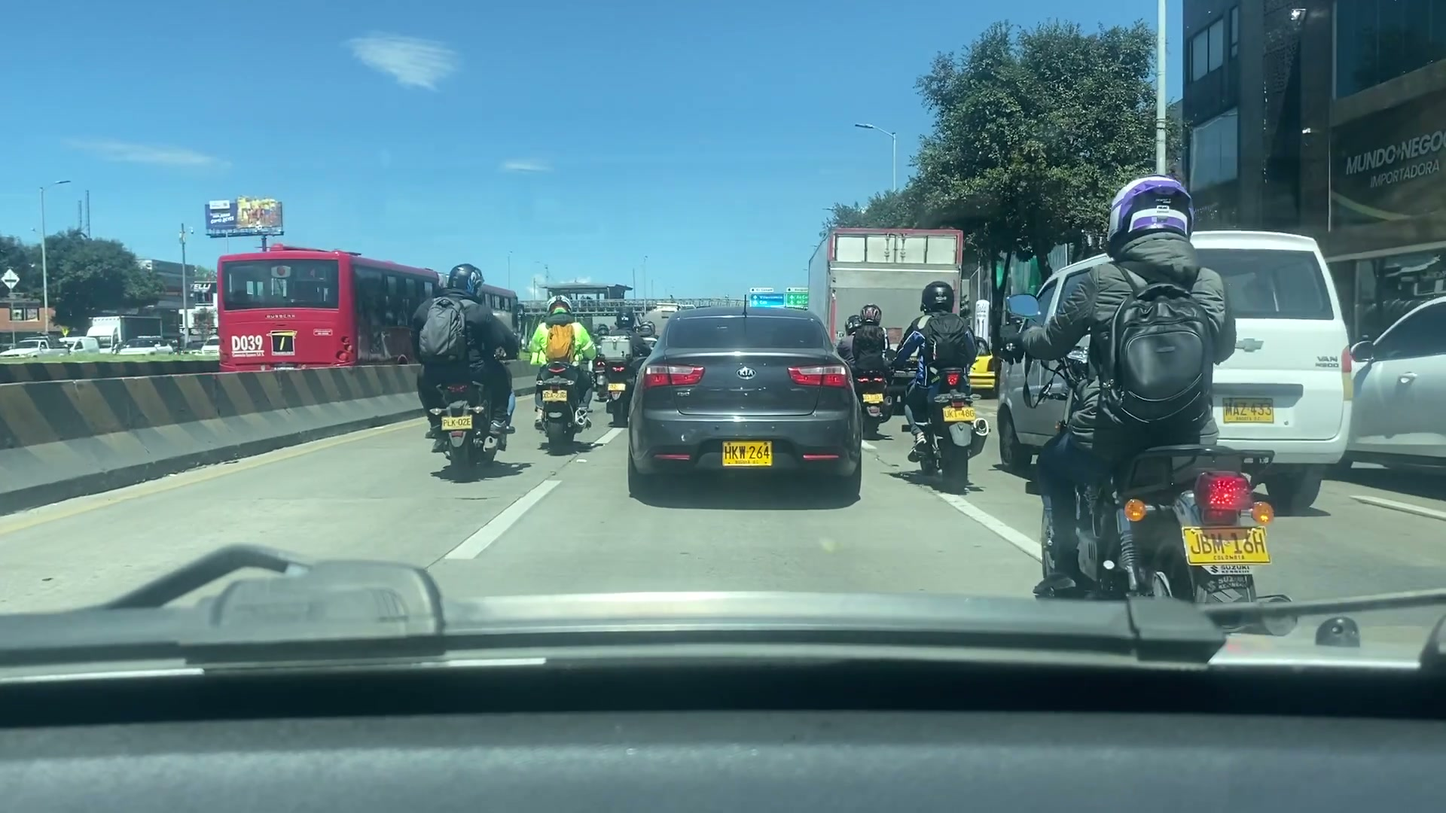bus: (991, 232, 1358, 509), (218, 255, 518, 371)
car: (626, 306, 866, 501), (1337, 285, 1446, 489)
motorcycle: (1022, 390, 1279, 630), (896, 371, 995, 490), (414, 374, 505, 472), (529, 360, 593, 458), (840, 362, 899, 440), (595, 359, 640, 424)
person: (1017, 176, 1289, 581), (411, 262, 522, 442), (893, 277, 984, 458), (530, 293, 595, 433), (596, 310, 652, 400), (845, 302, 893, 404)
truck: (799, 229, 966, 379)
